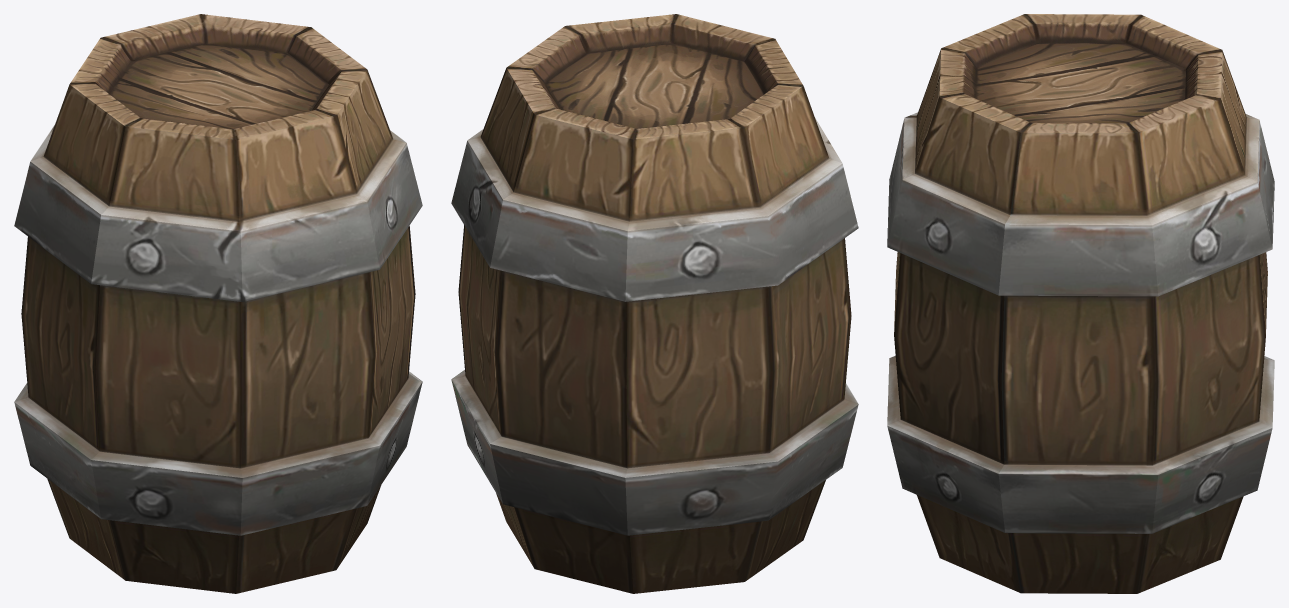
Rendered from Barrel.fbx.
The picture shows the model from 3 angles, left to right: view 1: azimuth 30°, elevation 25°; view 2: azimuth 150°, elevation 25°; view 3: azimuth 270°, elevation 25°; orthographic projection.
Parts seen in each view (by area): view 1: pCylinder4; view 2: pCylinder4; view 3: pCylinder4.
Part boxes in pixels (x1=…): pCylinder4: x1=14, y1=14, x2=422, y2=593; pCylinder4: x1=451, y1=14, x2=858, y2=593; pCylinder4: x1=887, y1=14, x2=1274, y2=593.
Bounding box in the file's own units: 65.23 × 85.52 × 65.23.
